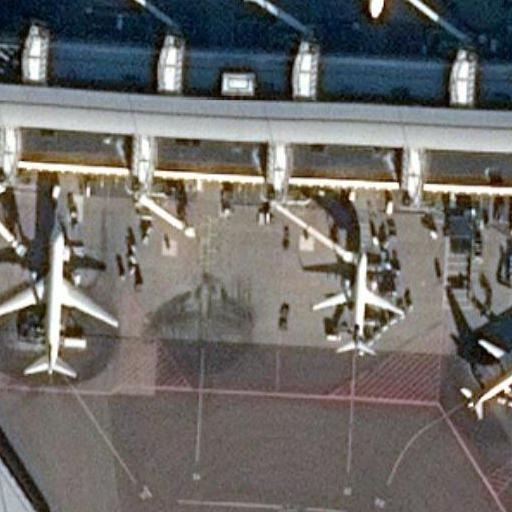Aircraft: (0, 224, 118, 380), (309, 247, 403, 355), (456, 330, 512, 420), (295, 0, 458, 19)
